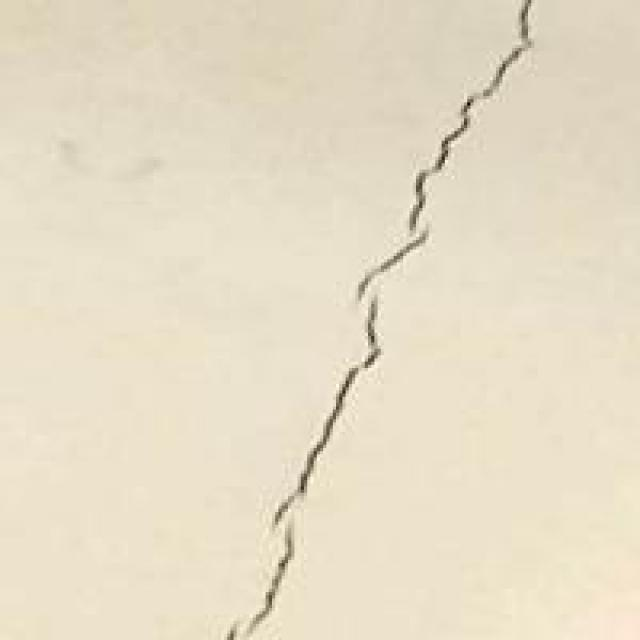crack: (230, 0, 544, 637)
